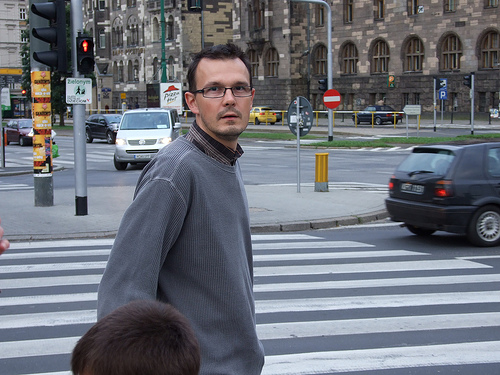without_mask: (187, 57, 258, 141)
